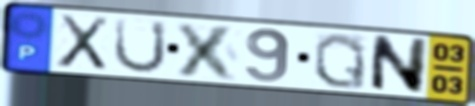9: (244, 27, 291, 84)
N: (367, 34, 431, 96)
Q: (312, 31, 368, 91)
U: (111, 16, 169, 75)
X: (173, 20, 242, 83), (54, 13, 112, 73)
